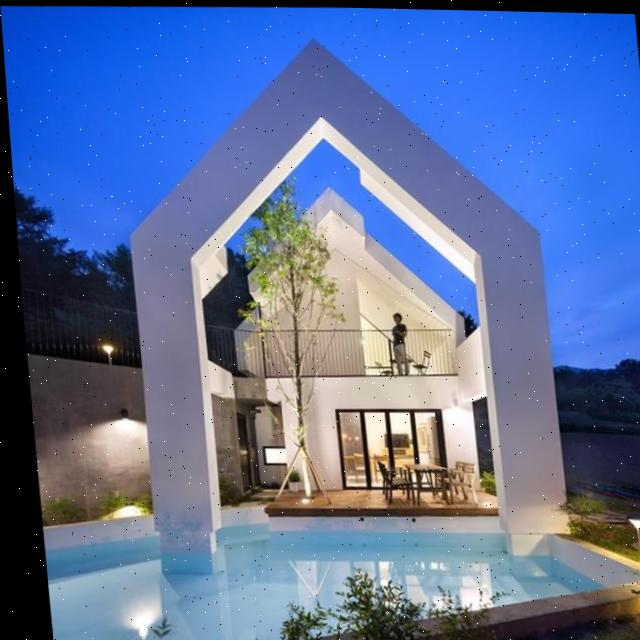building: (109, 27, 577, 544)
